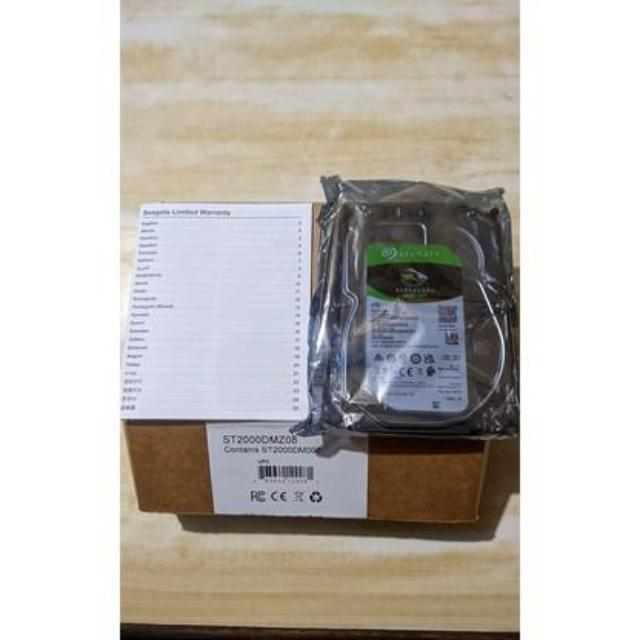DISK: (328, 199, 520, 436)
